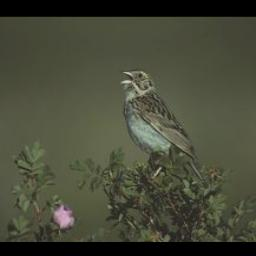Sparrow: (118, 62, 209, 194)
